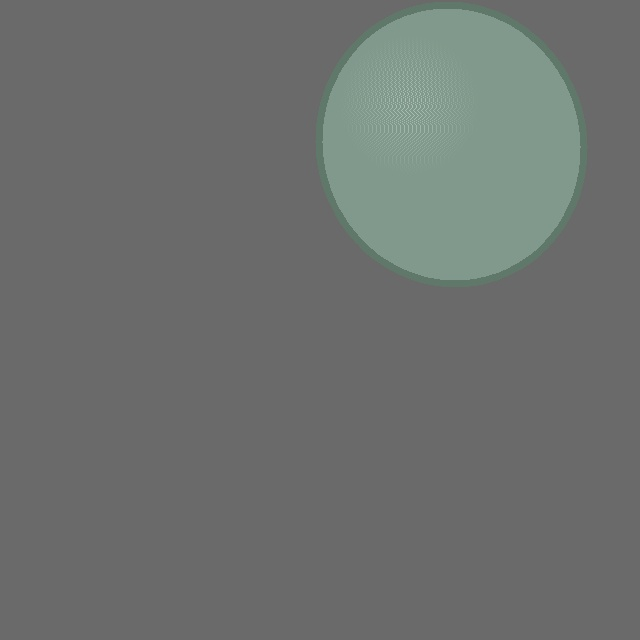lens: (318, 5, 584, 283)
